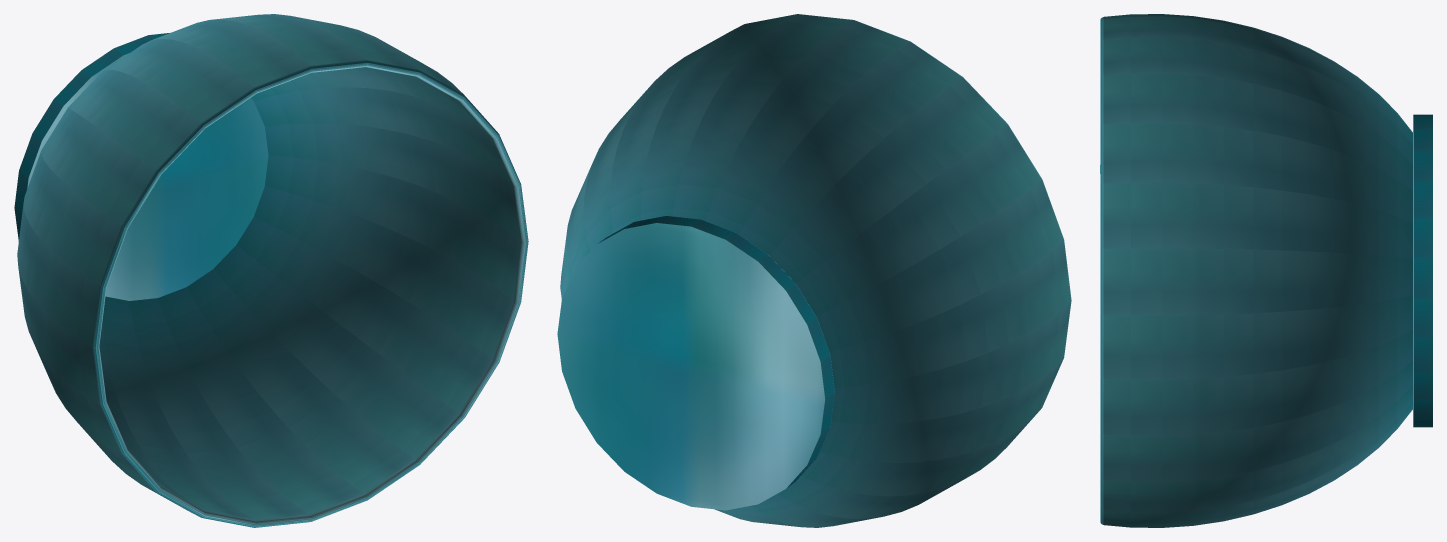
The model's file is model_scale.obj.
3 renders of one model, left to right at view 1: azimuth 30°, elevation 25°; view 2: azimuth 150°, elevation 25°; view 3: azimuth 270°, elevation 25°, orthographic.
Visible parts, largest first — view 1: mesh1_mesh1-geometry, mesh2_mesh2-geometry; view 2: mesh1_mesh1-geometry, mesh2_mesh2-geometry; view 3: mesh1_mesh1-geometry, mesh2_mesh2-geometry.
Boxes of the visible parts, box(x1,y1,x2,y2) form: mesh1_mesh1-geometry: box(17, 14, 528, 527); mesh2_mesh2-geometry: box(14, 33, 169, 241); mesh1_mesh1-geometry: box(560, 14, 1071, 527); mesh2_mesh2-geometry: box(557, 216, 834, 510); mesh1_mesh1-geometry: box(1100, 14, 1412, 527); mesh2_mesh2-geometry: box(1413, 114, 1432, 427).
Bounding box in the file's own units: 0.1437 × 0.1437 × 0.0927.
Materials: 1 (1 with a texture image).
